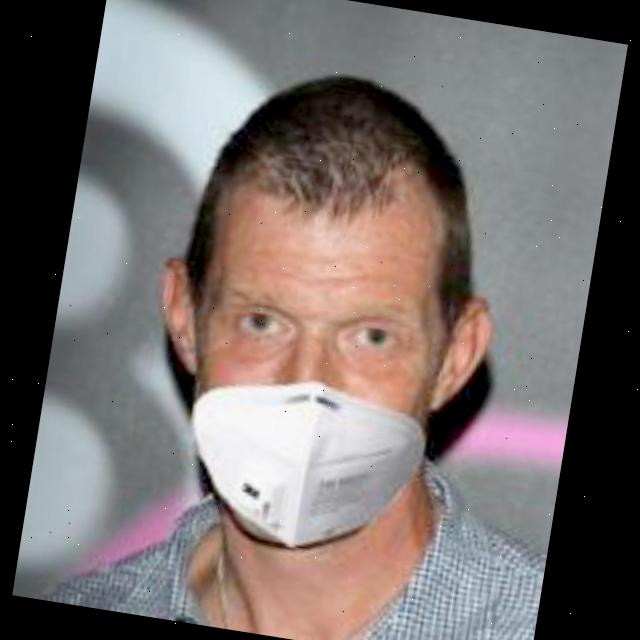suspicion: (117, 64, 561, 566)
